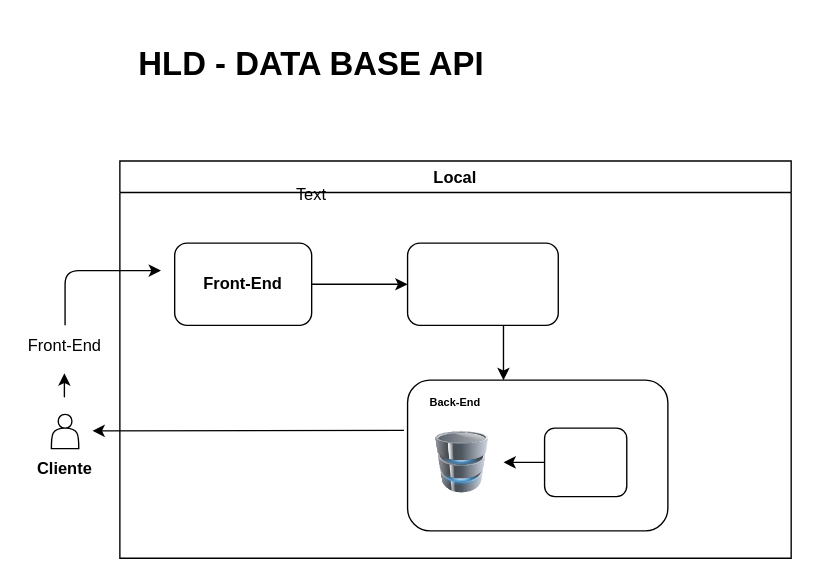
Some shapes in this 815 by 582 pixel diagram are drawn without their labels. Each missing label, with the centre of its shape:
"Minimal APIs" goes at [482,283].
"Service" goes at [585,462].
